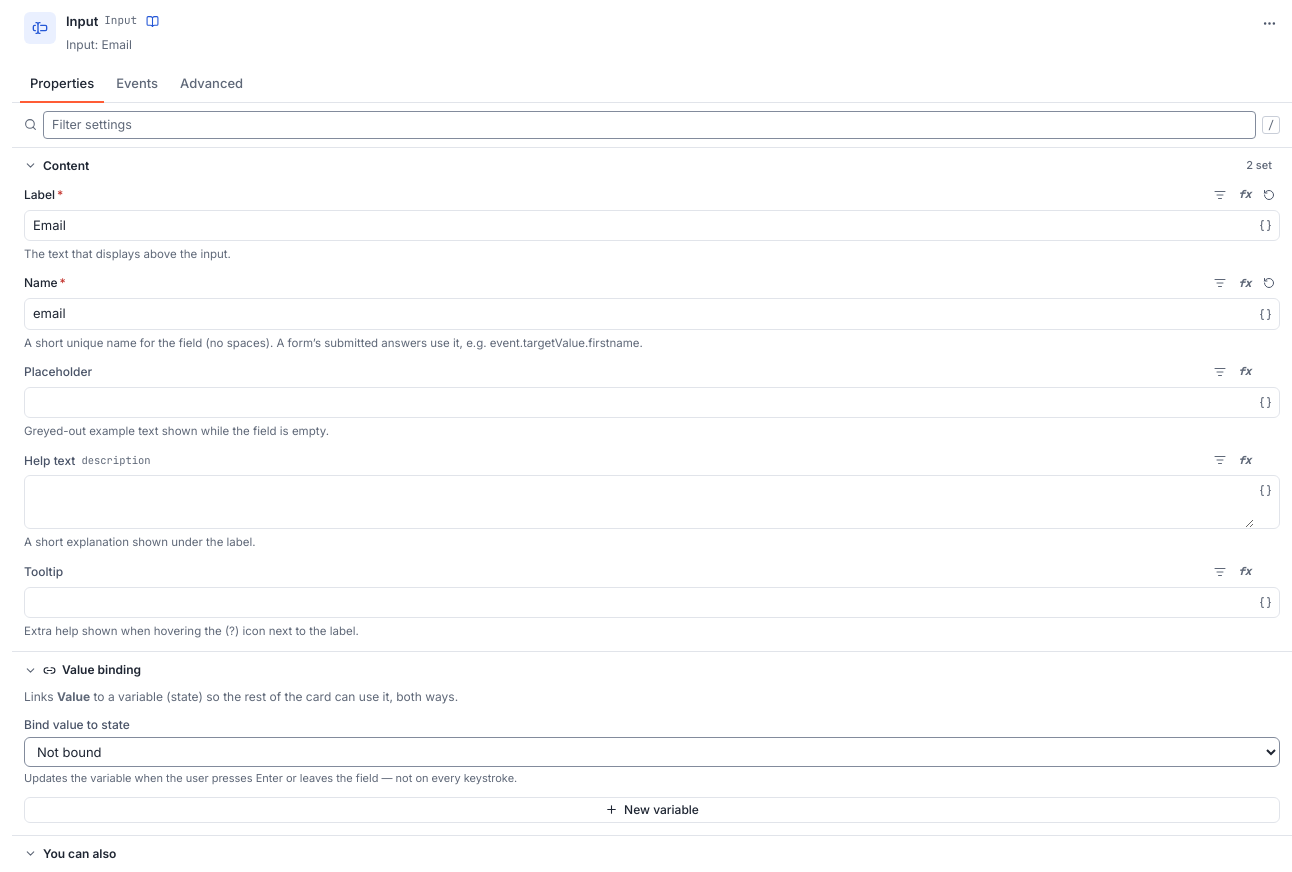
Filter settings › filters the Properties tab, opens matching sections and clears with Escape
The width and height of the screenshot is (1292, 872).
Step 1. Type "error" into the field labelled "Filter settings" → (650, 125), box left=43, top=111, right=1256, bottom=139
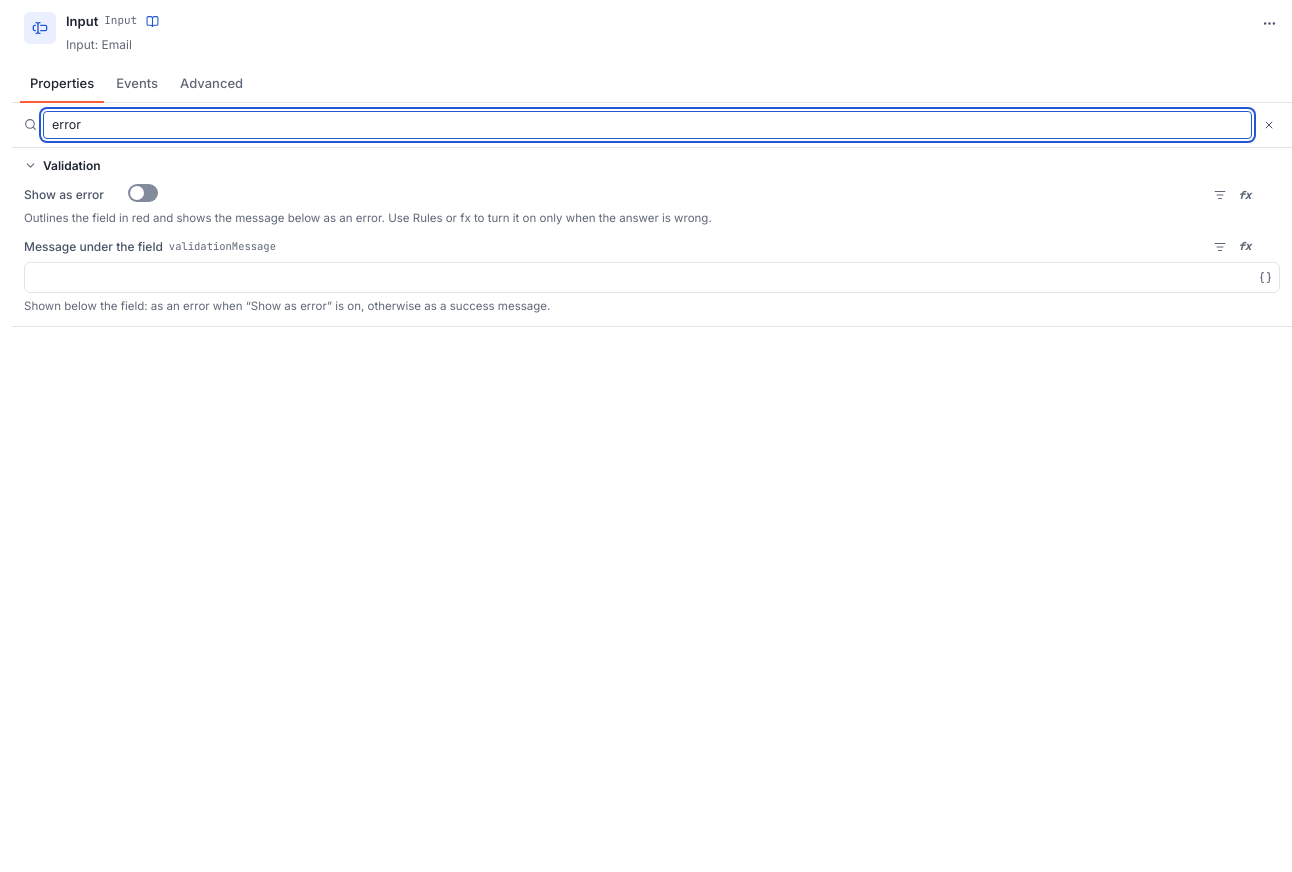
Check: the element that starts with "Show as error" is shown, box left=24, top=184, right=1280, bottom=226
Check: the dropdown is gone
Step 2. Clear the field named "Filter settings" → (648, 125), box left=43, top=111, right=1252, bottom=139
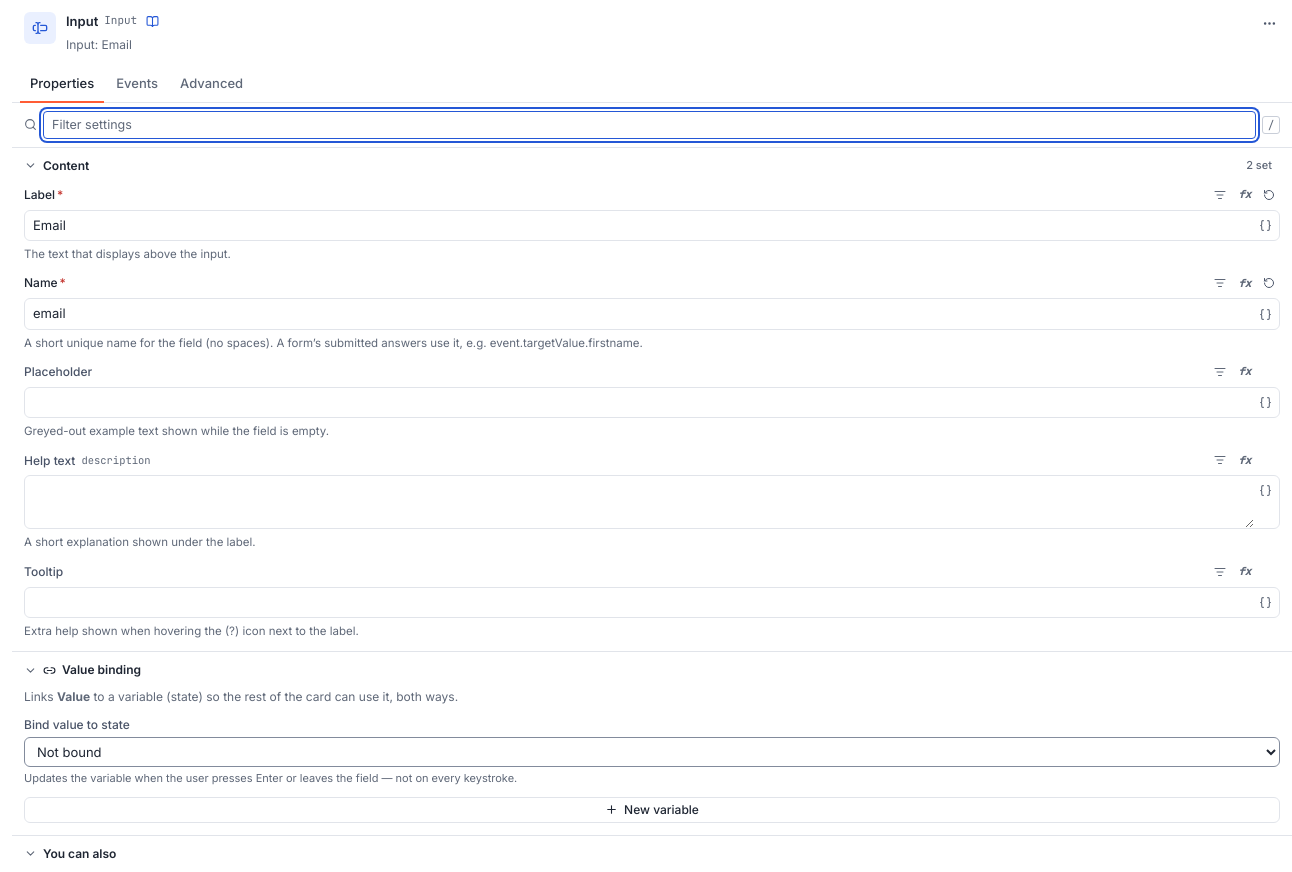
Step 3. Type "zzz nothing" into the field labelled "Filter settings" → (650, 125), box left=43, top=111, right=1256, bottom=139
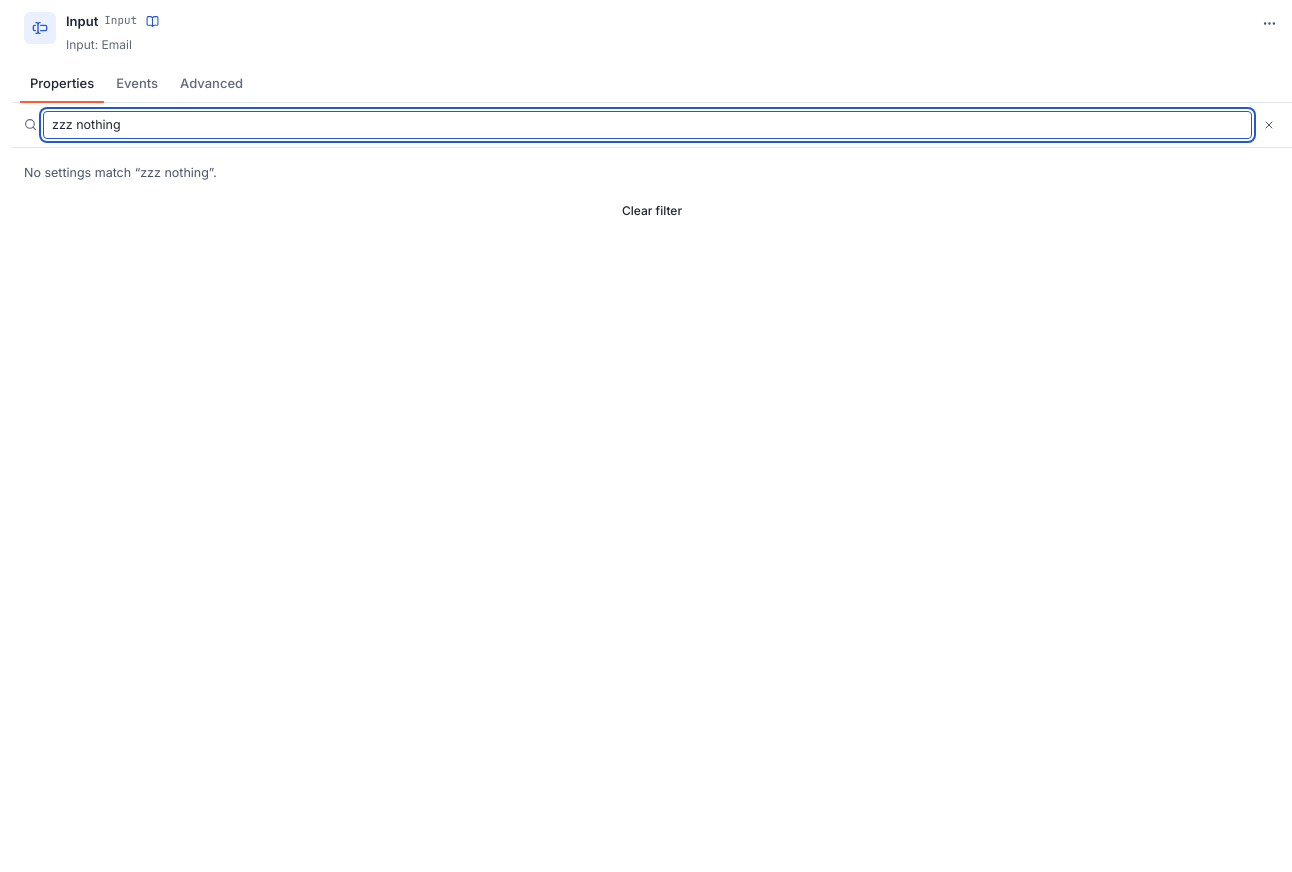
Check: the message shows "No settings match “zzz nothing”.", box left=24, top=165, right=691, bottom=224
Step 4. Press Escape
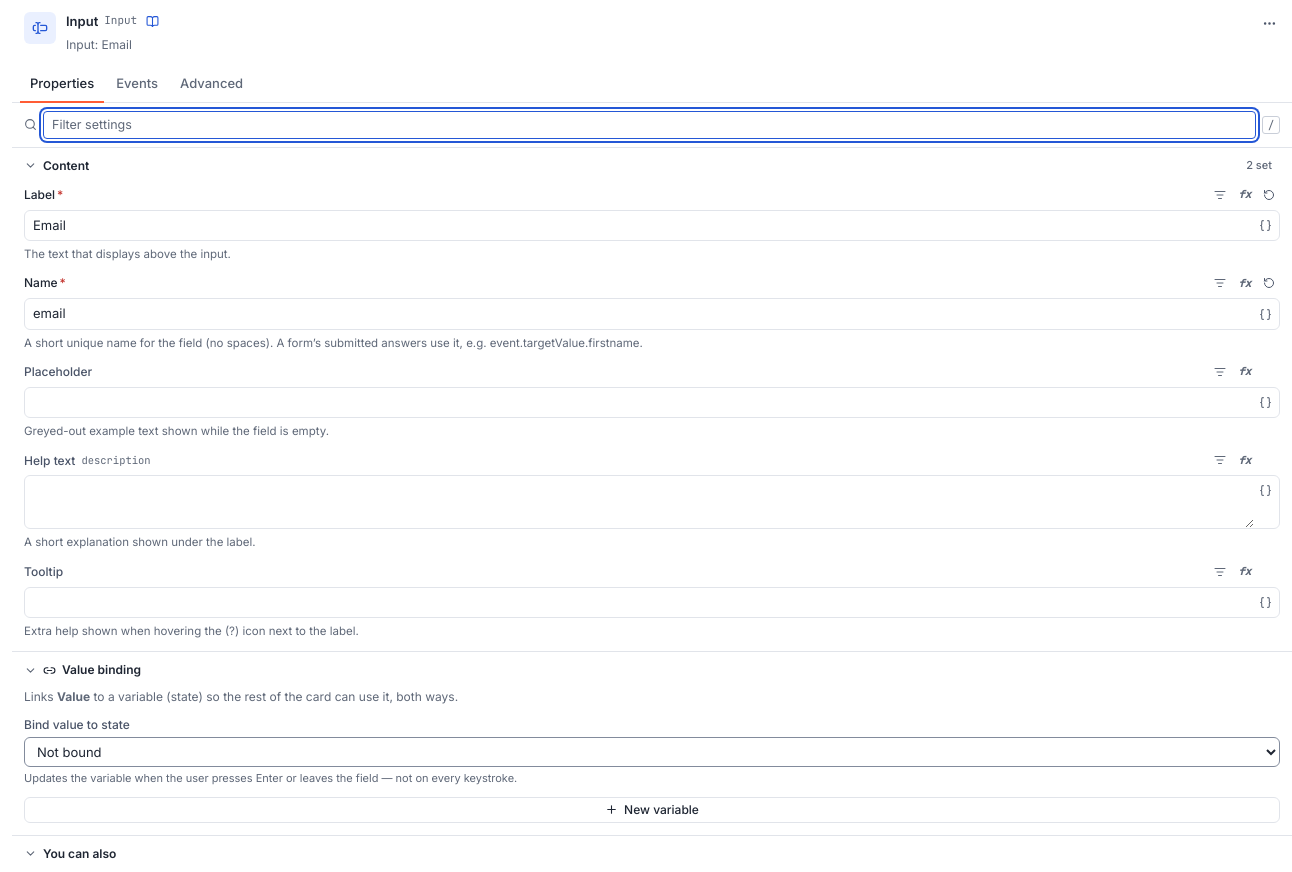
Check: the element showing "Label* fx The text that displays above the input." is shown, box left=24, top=184, right=1280, bottom=262
